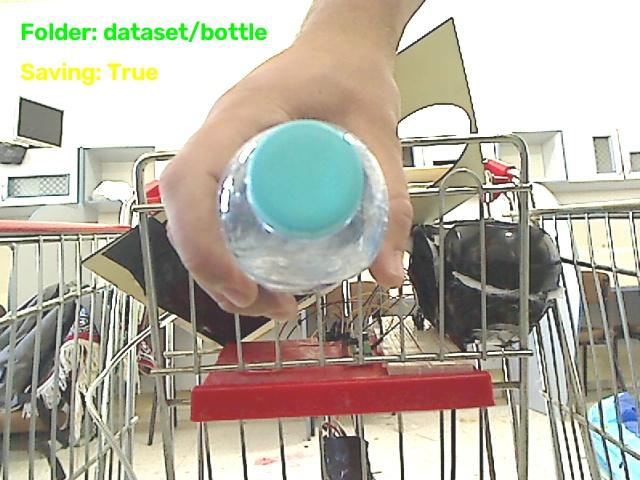Bottle: (220, 120, 388, 294)
